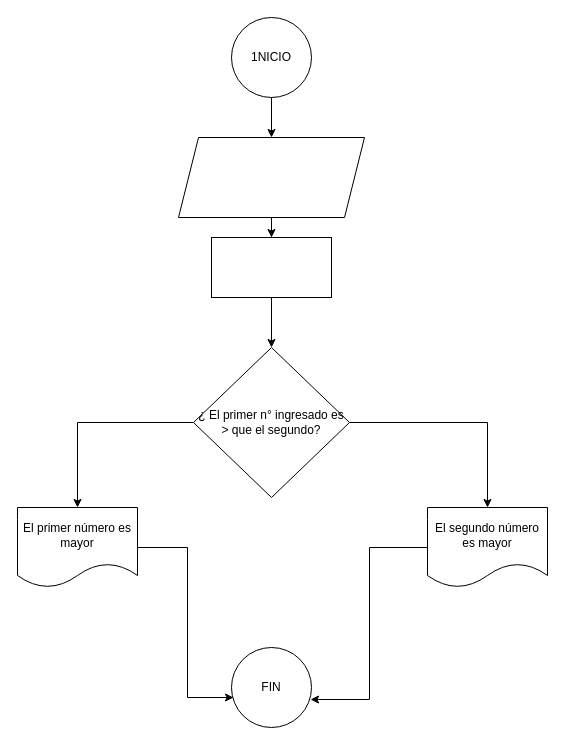
Image size: 565x745. Some labels were removed from this diagram. The centre of each missing label's shape, as x and y in pixels:
Comparar los dos números ingresados: the point at 271,267
Solicitar a la persona que ingrese dos números de diferente valor: the point at 271,177
